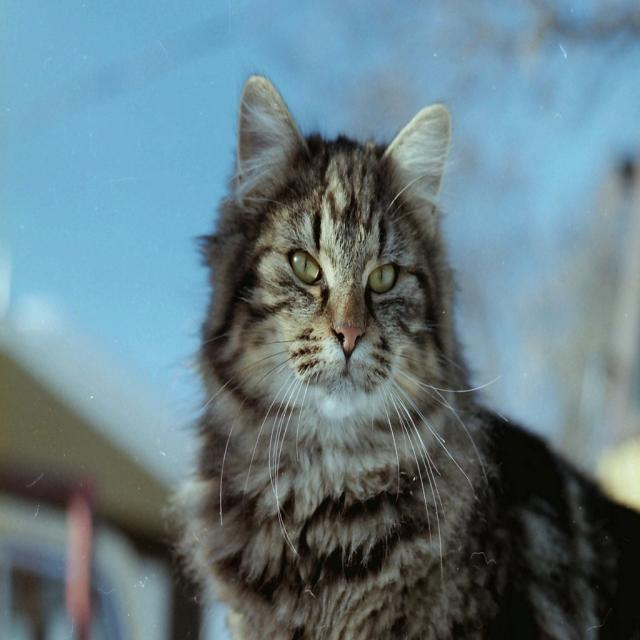Cat: (156, 59, 640, 639)
